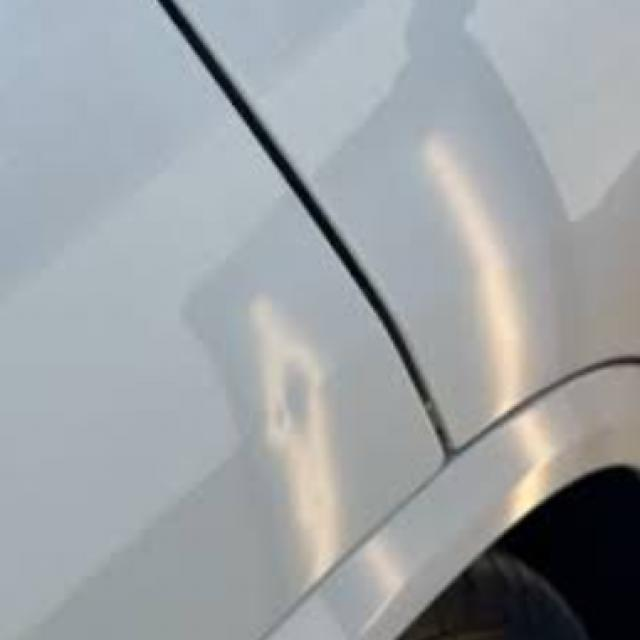dents: (236, 351, 335, 448)
